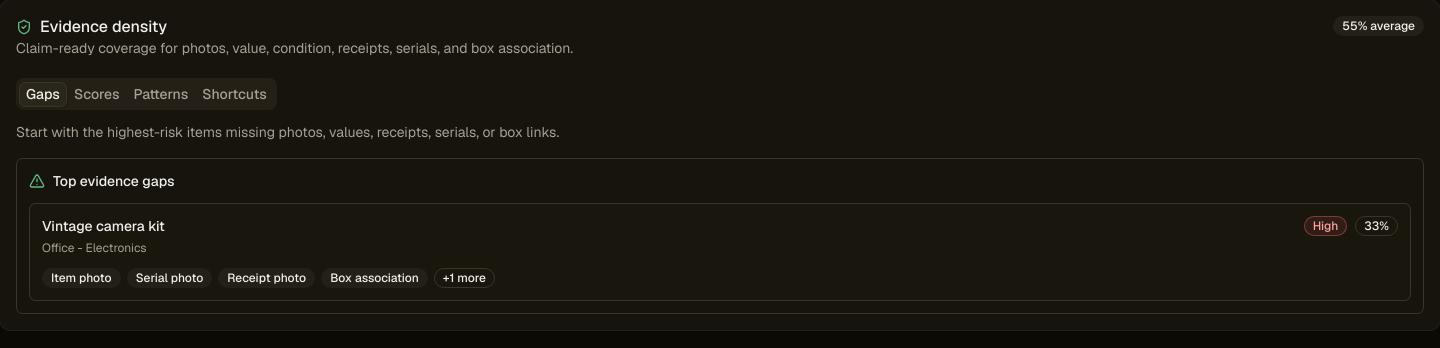
Test: EvidenceDensityPanel task tabs › opens on top gaps and separates scores, repeated patterns, and shortcuts
Expected: the text "Start with the highest-risk items missing photos, values, receipts, serials, or box links." is shown, x1=16 y1=123 x2=559 y2=141
Expected: the text "Top evidence gaps" is shown, x1=29 y1=172 x2=174 y2=190
Click the tab "Scores": x=97, y=94 x1=67 y1=82 x2=126 y2=106
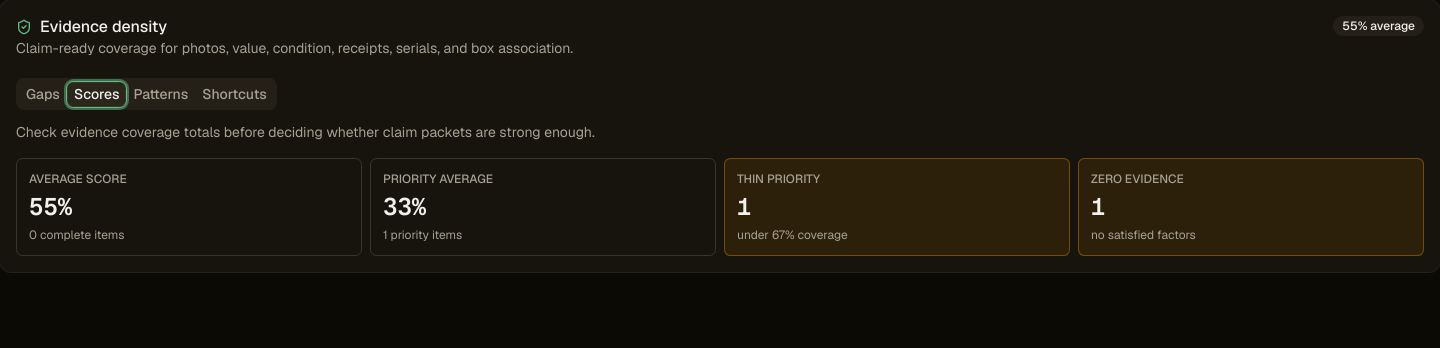
Result: the text "Check evidence coverage totals before deciding whether claim packets are strong enough." is shown at x1=16 y1=123 x2=595 y2=141
Result: the text "Average score" is shown at x1=29 y1=171 x2=127 y2=187
Result: the text "Priority average" is shown at x1=383 y1=171 x2=493 y2=187
Click the tab "Patterns": x=161, y=94 x1=126 y1=82 x2=195 y2=106
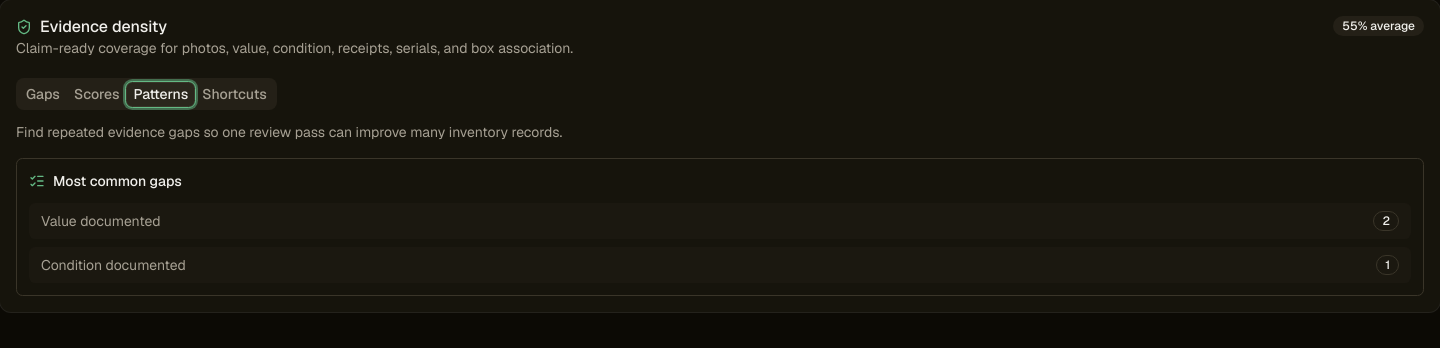
Result: the text "Find repeated evidence gaps so one review pass can improve many inventory records." is shown at x1=16 y1=123 x2=562 y2=141
Result: the text "Most common gaps" is shown at x1=29 y1=172 x2=182 y2=190
Result: the text "Value documented" is shown at x1=41 y1=211 x2=160 y2=231
Click the tab "Shortcuts": x=234, y=94 x1=195 y1=82 x2=274 y2=106
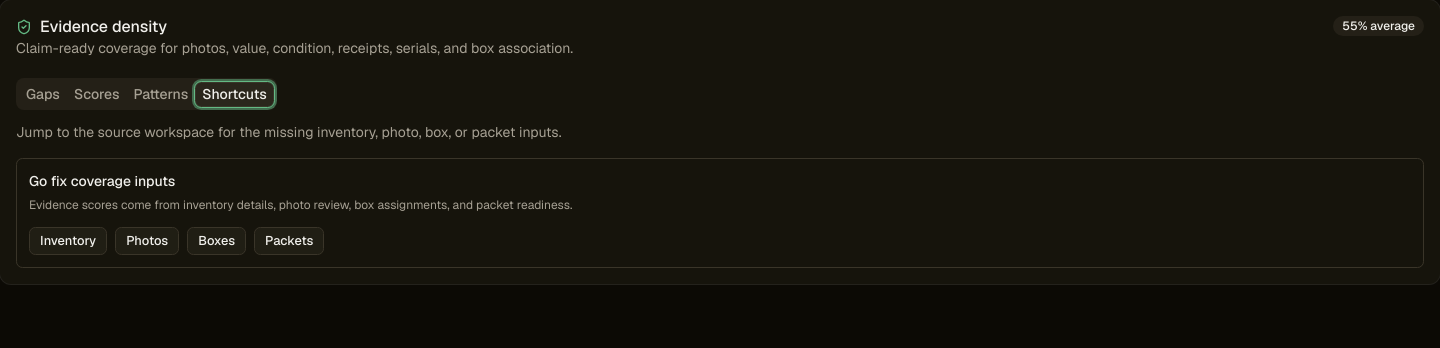
Expected: the text "Vintage camera kit" is not shown
Result: the text "Jump to the source workspace for the missing inventory, photo, box, or packet inputs." is shown at x1=16 y1=123 x2=562 y2=141
Result: the text "Go fix coverage inputs" is shown at x1=29 y1=172 x2=175 y2=190
